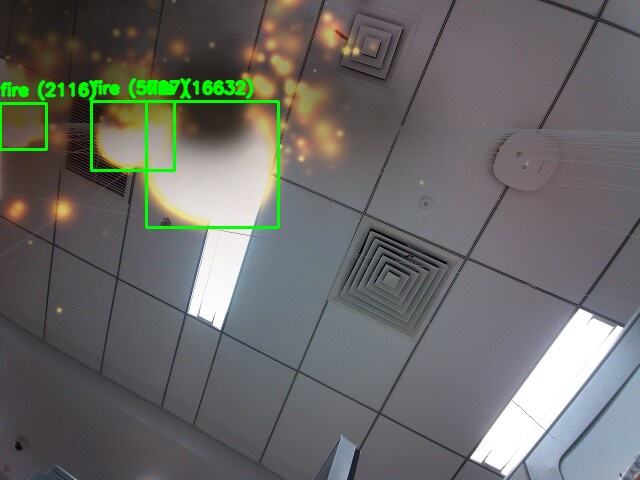fire: (146, 101, 278, 227), (91, 101, 174, 170), (0, 103, 46, 149)
